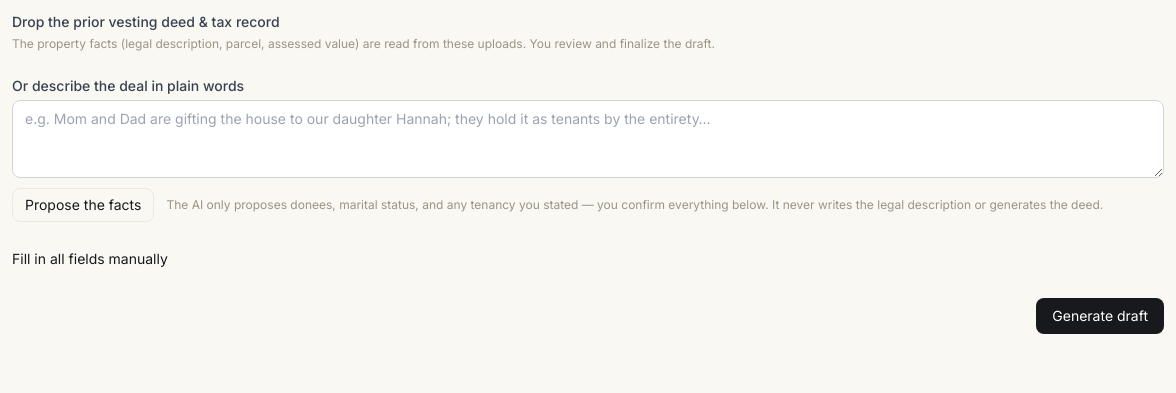
Test case: DeedIntake — DEED-INTAKE-REDESIGN-1 + DEED-EXPRESS-1 › free-associate "proposed" pre-fills the donee but DEED-EXPRESS-1 keeps the form COLLAPSED (PROPOSE-ONLY, no submit)
Replace the text in the text box with test id "deed-intake-freetext" with "gift the house to my daughter Hannah": point(588, 139) [12,100,1164,178]
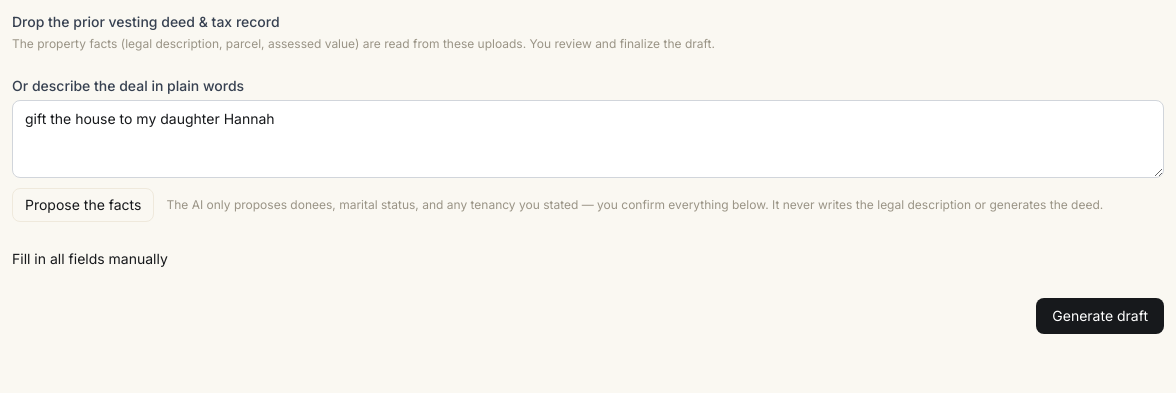
Click the button with test id "deed-intake-propose": point(83, 205) [12,188,154,222]
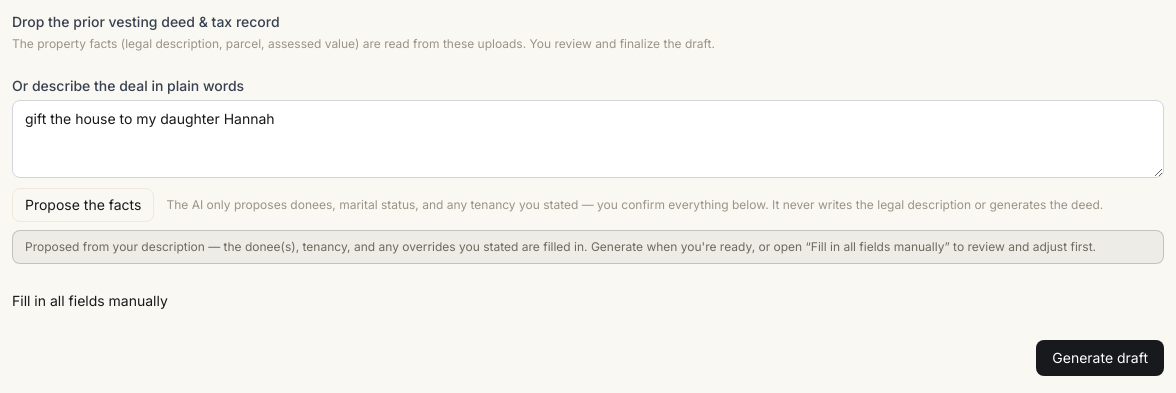
Check: the text with test id "deed-intake-proposed-note" is shown, box [12,230,1164,264]
